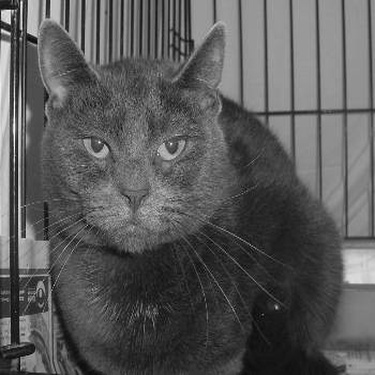cat: (1, 12, 348, 368)
